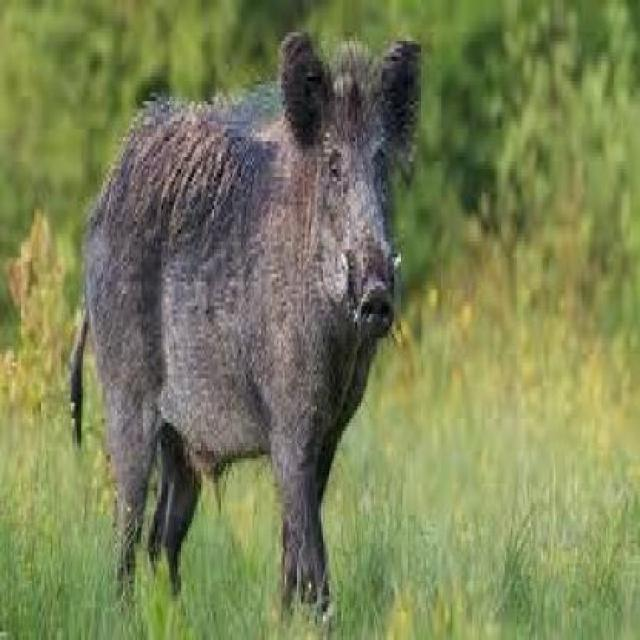wildboar: (66, 27, 426, 621)
